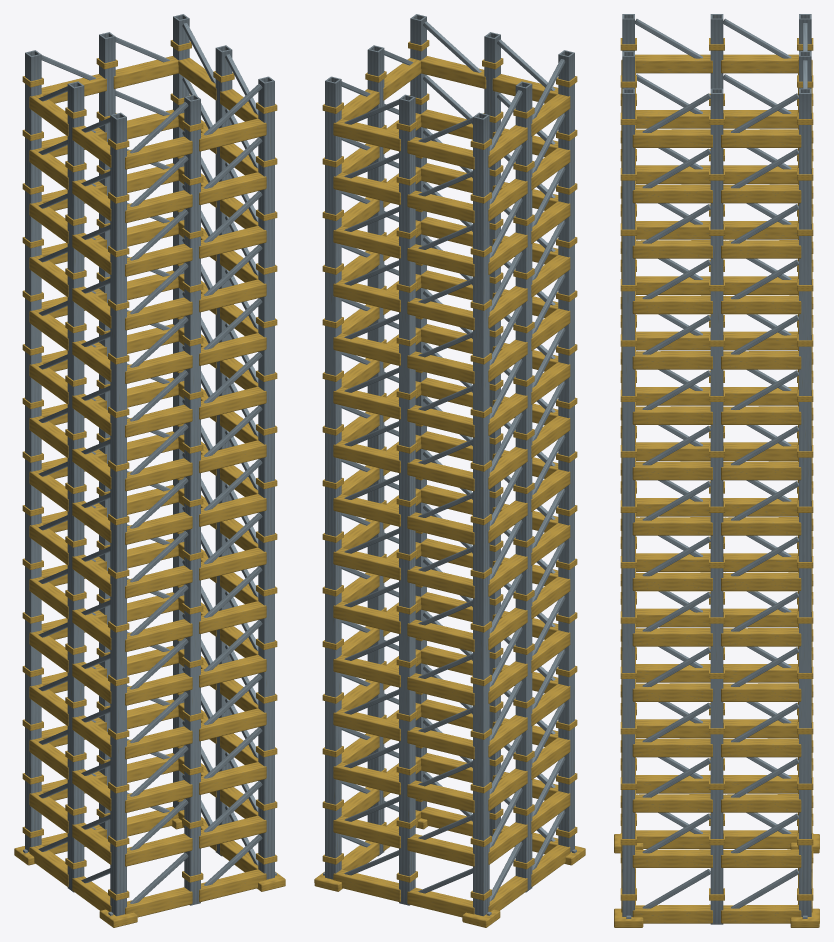
The picture shows the model from 3 angles, left to right: view 1: azimuth 30°, elevation 25°; view 2: azimuth 150°, elevation 25°; view 3: azimuth 270°, elevation 25°; orthographic projection. The views are drawn at different scales.
Parts seen in each view (by area): view 1: Tier 0 side 0 post 0, Tier 0 side 1 post 0, Tier 0 side 0 post 1, Tier 0 side 3 post 1, Tier 0 side 3 post 0, Tier 0 side 1 post 1, Tier 0 side 2 post 1, Tier 0 side 2 post 0, Tier 0 bay 0-11-0 service deck, Tier 0 bay 0-3-0 service deck, Tier 0 bay 0-7-0 service deck, Tier 0 bay 0-9-0 service deck (+88 smaller); view 2: Tier 0 side 3 post 0, Tier 0 side 2 post 0, Tier 0 side 2 post 1, Tier 0 side 3 post 1, Tier 0 side 0 post 0, Tier 0 side 1 post 1, Tier 0 side 0 post 1, Tier 0 side 1 post 0, Tier 0 bay 2-4-0 service deck, Tier 0 bay 2-9-1 service deck, Tier 0 bay 2-11-1 service deck, Tier 0 bay 2-13-1 service deck (+88 smaller); view 3: Tier 0 side 1 post 1, Tier 0 side 1 post 0, Tier 0 side 2 post 0, Tier 0 bay 1-11-0 service deck, Tier 0 bay 1-11-1 service deck, Tier 0 bay 1-6-0 service deck, Tier 0 bay 1-6-1 service deck, Tier 0 bay 1-3-0 service deck, Tier 0 bay 1-8-0 service deck, Tier 0 bay 1-13-0 service deck, Tier 0 bay 1-3-1 service deck, Tier 0 bay 1-8-1 service deck (+84 smaller).
Part boxes in pixels (left/top/right/bottom): Tier 0 side 0 post 0: left=110, top=112, right=126, bottom=916; Tier 0 side 1 post 0: left=258, top=76, right=274, bottom=879; Tier 0 side 0 post 1: left=184, top=94, right=200, bottom=905; Tier 0 side 3 post 1: left=67, top=81, right=84, bottom=892; Tier 0 side 3 post 0: left=25, top=50, right=41, bottom=851; Tier 0 side 1 post 1: left=215, top=45, right=232, bottom=856; Tier 0 side 2 post 1: left=99, top=32, right=115, bottom=839; Tier 0 side 2 post 0: left=173, top=14, right=189, bottom=810; Tier 0 bay 0-11-0 service deck: left=125, top=297, right=192, bottom=330; Tier 0 bay 0-3-0 service deck: left=125, top=726, right=192, bottom=759; Tier 0 bay 0-7-0 service deck: left=125, top=512, right=192, bottom=544; Tier 0 bay 0-9-0 service deck: left=125, top=404, right=192, bottom=437; Tier 0 side 3 post 0: left=473, top=112, right=489, bottom=916; Tier 0 side 2 post 0: left=325, top=76, right=341, bottom=879; Tier 0 side 2 post 1: left=399, top=94, right=415, bottom=905; Tier 0 side 3 post 1: left=515, top=81, right=532, bottom=892; Tier 0 side 0 post 0: left=558, top=50, right=574, bottom=852; Tier 0 side 1 post 1: left=367, top=45, right=384, bottom=856; Tier 0 side 0 post 1: left=484, top=32, right=500, bottom=835; Tier 0 side 1 post 0: left=410, top=14, right=426, bottom=810; Tier 0 bay 2-4-0 service deck: left=333, top=655, right=400, bottom=687; Tier 0 bay 2-9-1 service deck: left=407, top=405, right=474, bottom=437; Tier 0 bay 2-11-1 service deck: left=407, top=298, right=474, bottom=330; Tier 0 bay 2-13-1 service deck: left=407, top=190, right=474, bottom=223; Tier 0 side 1 post 1: left=710, top=88, right=723, bottom=924; Tier 0 side 1 post 0: left=622, top=88, right=634, bottom=916; Tier 0 side 2 post 0: left=799, top=88, right=811, bottom=916; Tier 0 bay 1-11-0 service deck: left=632, top=295, right=712, bottom=314; Tier 0 bay 1-11-1 service deck: left=721, top=295, right=801, bottom=314; Tier 0 bay 1-6-0 service deck: left=632, top=572, right=712, bottom=591; Tier 0 bay 1-6-1 service deck: left=721, top=572, right=801, bottom=591; Tier 0 bay 1-3-0 service deck: left=632, top=738, right=712, bottom=757; Tier 0 bay 1-8-0 service deck: left=632, top=461, right=712, bottom=480; Tier 0 bay 1-13-0 service deck: left=632, top=184, right=712, bottom=203; Tier 0 bay 1-3-1 service deck: left=721, top=738, right=801, bottom=757; Tier 0 bay 1-8-1 service deck: left=721, top=461, right=801, bottom=480.
Size of the model in its own units: 1.05 by 4.68 by 1.05.
2 materials, 2 textured.
